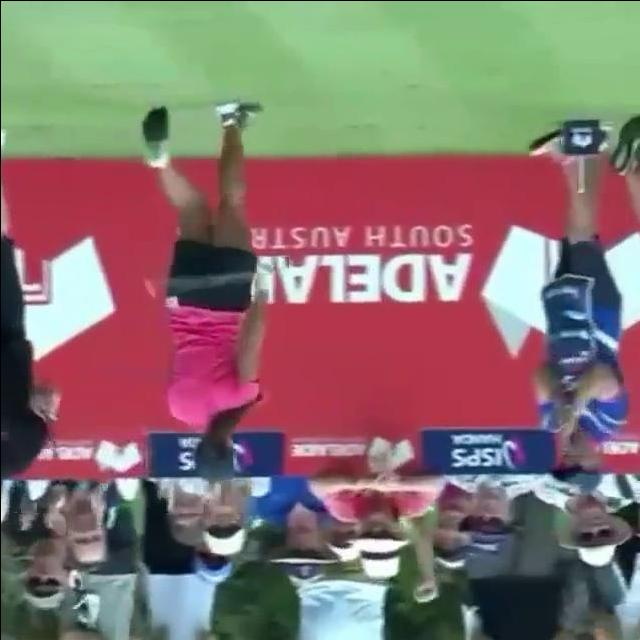golf club-handle: (142, 271, 260, 297)
golf club-head: (142, 277, 156, 296)
